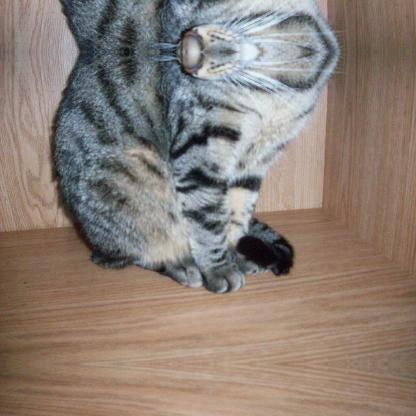Cat: (50, 52, 342, 294), (50, 0, 343, 53)
